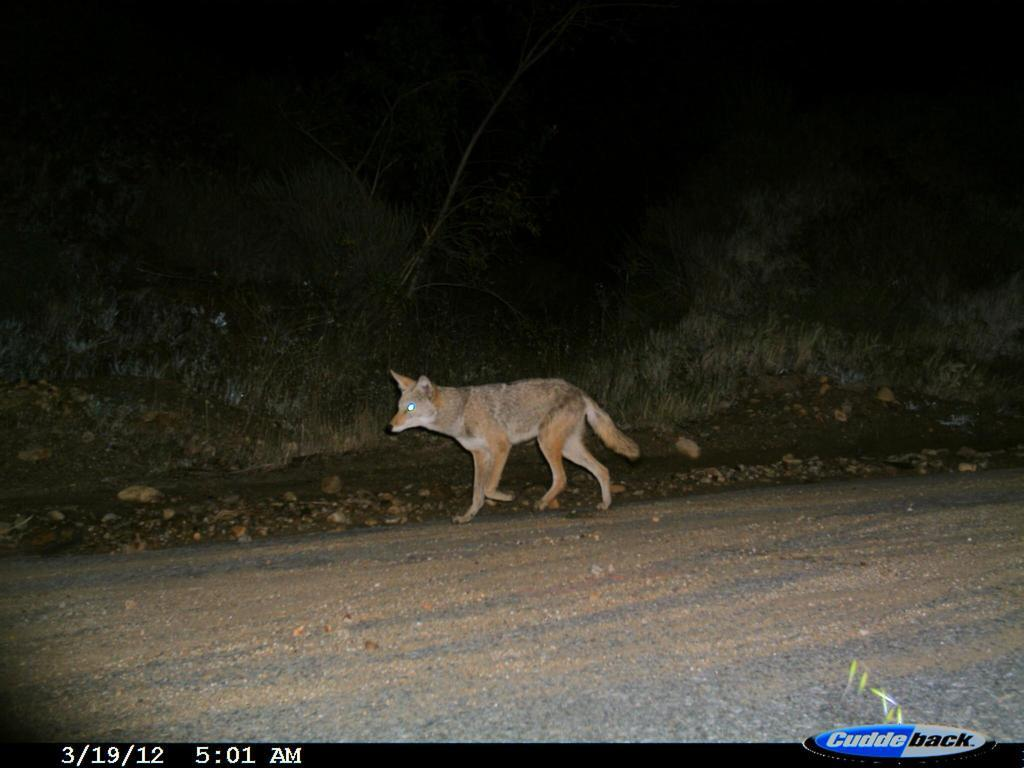coyote: (374, 364, 651, 525)
